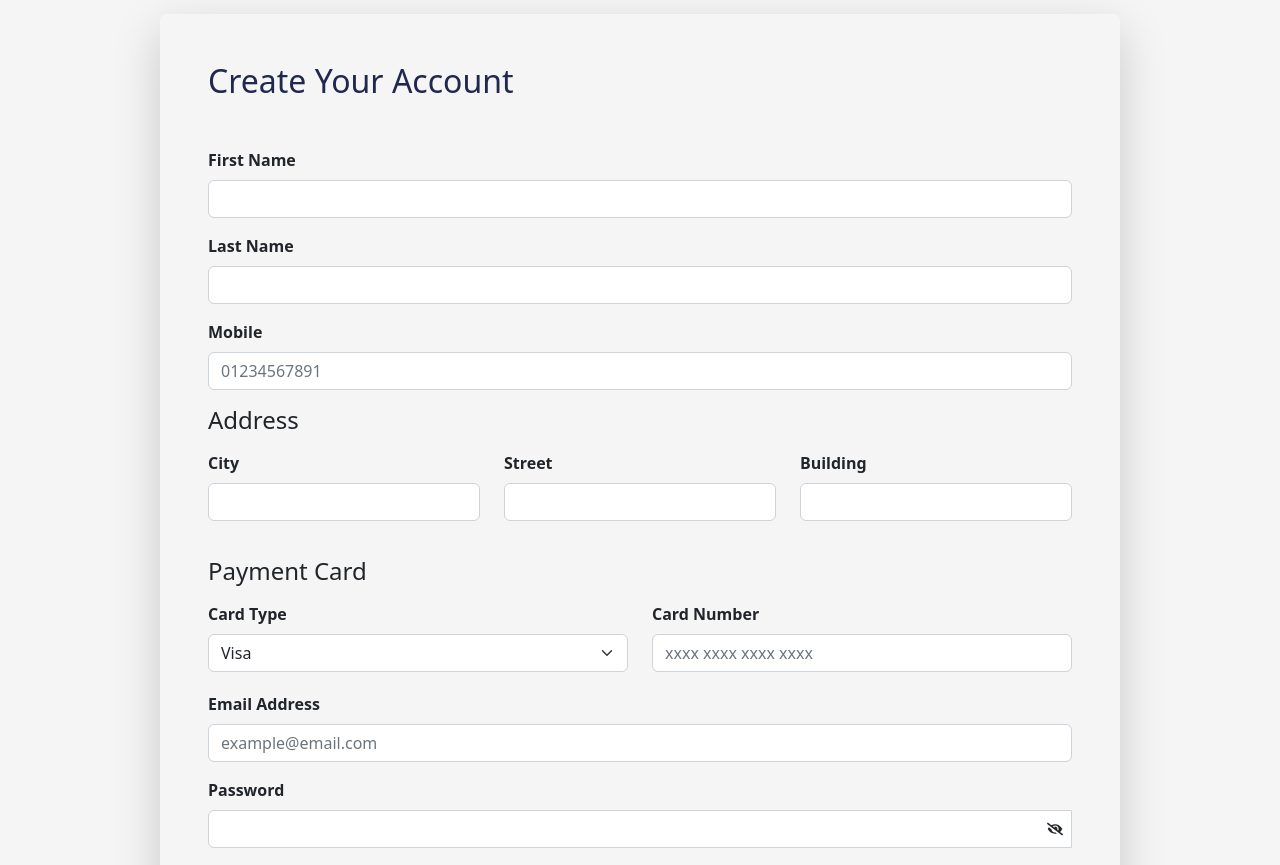
it: not a matched password
Type "Pass@123" into the password field labelled "Password".
click(640, 829); type("Pass@123")  # box [208,810,1072,848]
(page scrolled)
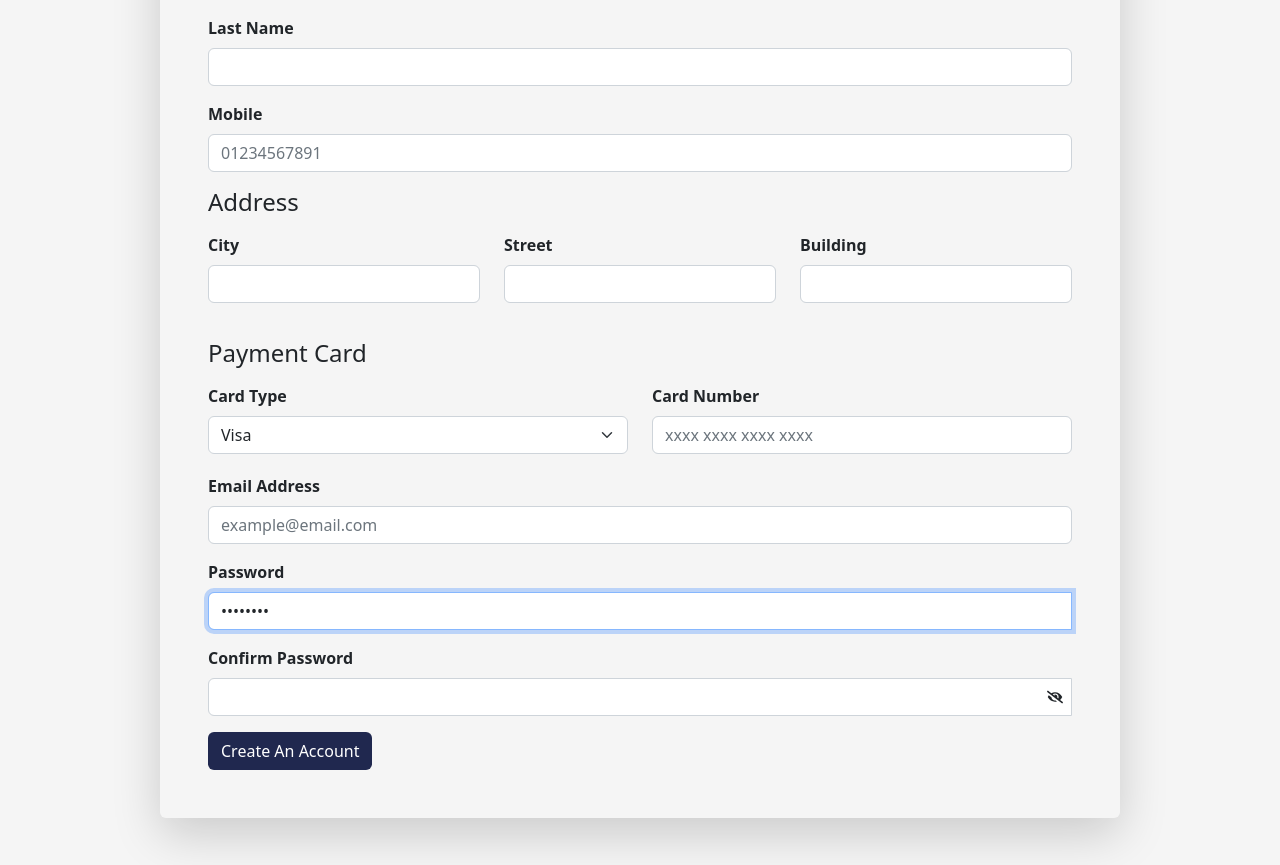
Type "Pass@548" into the password field labelled "Confirm Password".
click(640, 697); type("Pass@548")  # box [208,678,1072,716]
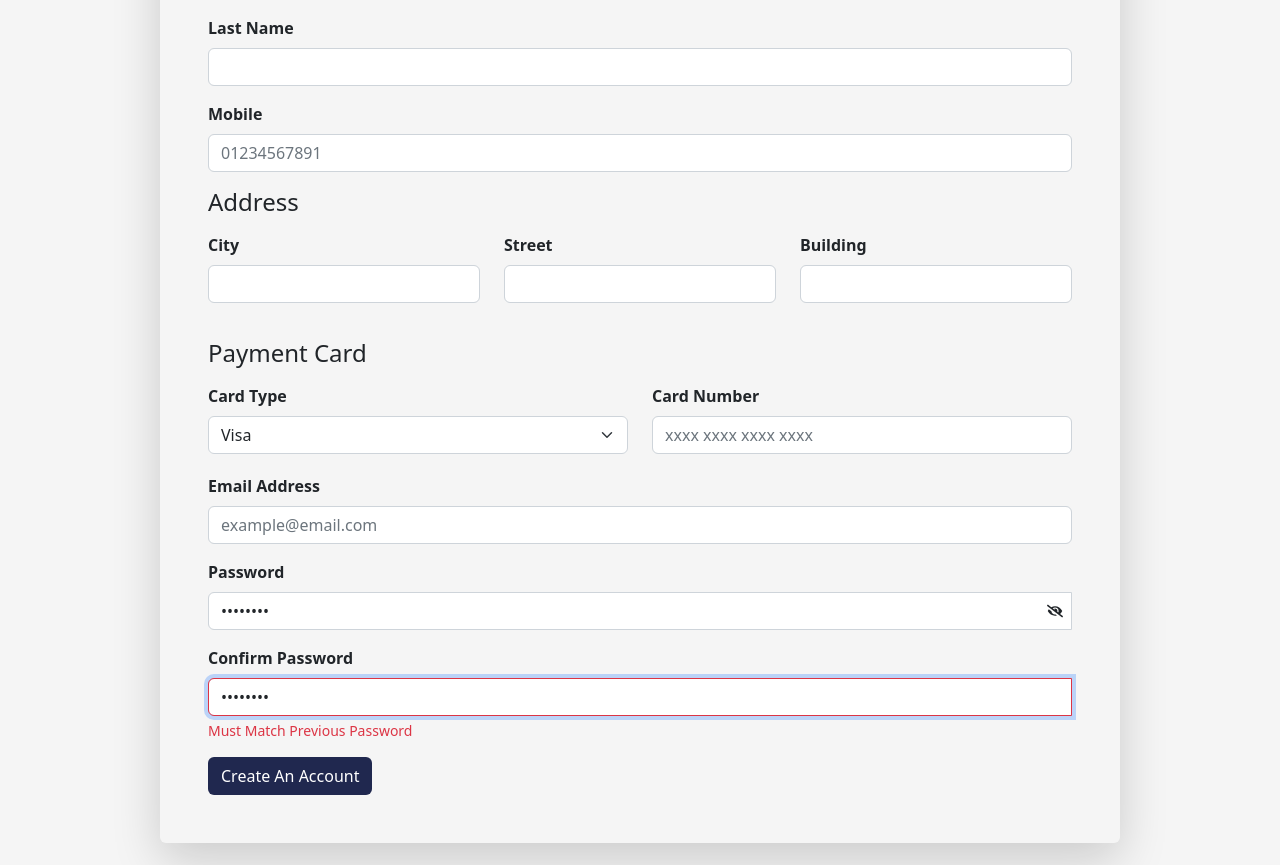
Now the text "Must Match Previous Password" is shown, box [208,721,412,740]
